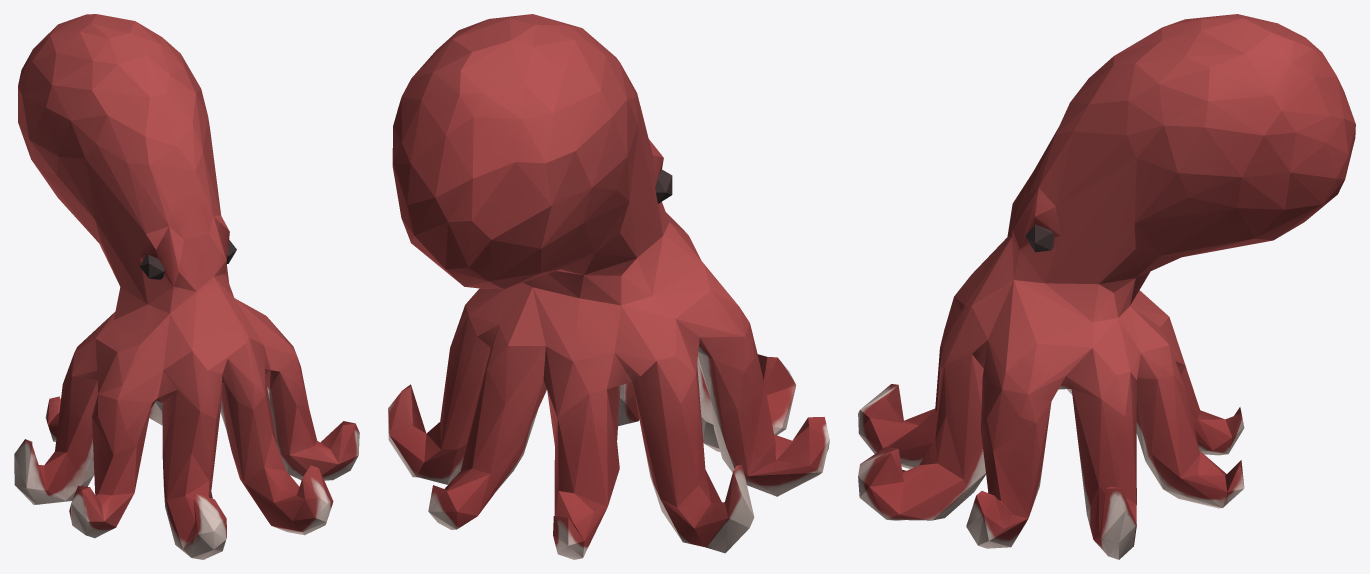
The model's file is octopus.fbx.
The picture shows the model from 3 angles, left to right: view 1: azimuth 30°, elevation 25°; view 2: azimuth 150°, elevation 25°; view 3: azimuth 270°, elevation 25°; orthographic projection. The views are drawn at different scales.
Visible parts, largest first — view 1: Merged_PM3D_Sphere3D2, pPlatonic1; view 2: Merged_PM3D_Sphere3D2; view 3: Merged_PM3D_Sphere3D2.
Part boxes in pixels (x1,y1,x2,y2): Merged_PM3D_Sphere3D2: (14,14,359,559); pPlatonic1: (139,254,165,279); Merged_PM3D_Sphere3D2: (388,14,829,559); Merged_PM3D_Sphere3D2: (858,14,1355,559).
Size of the model in its own units: 3.2 by 4.41 by 4.22.
